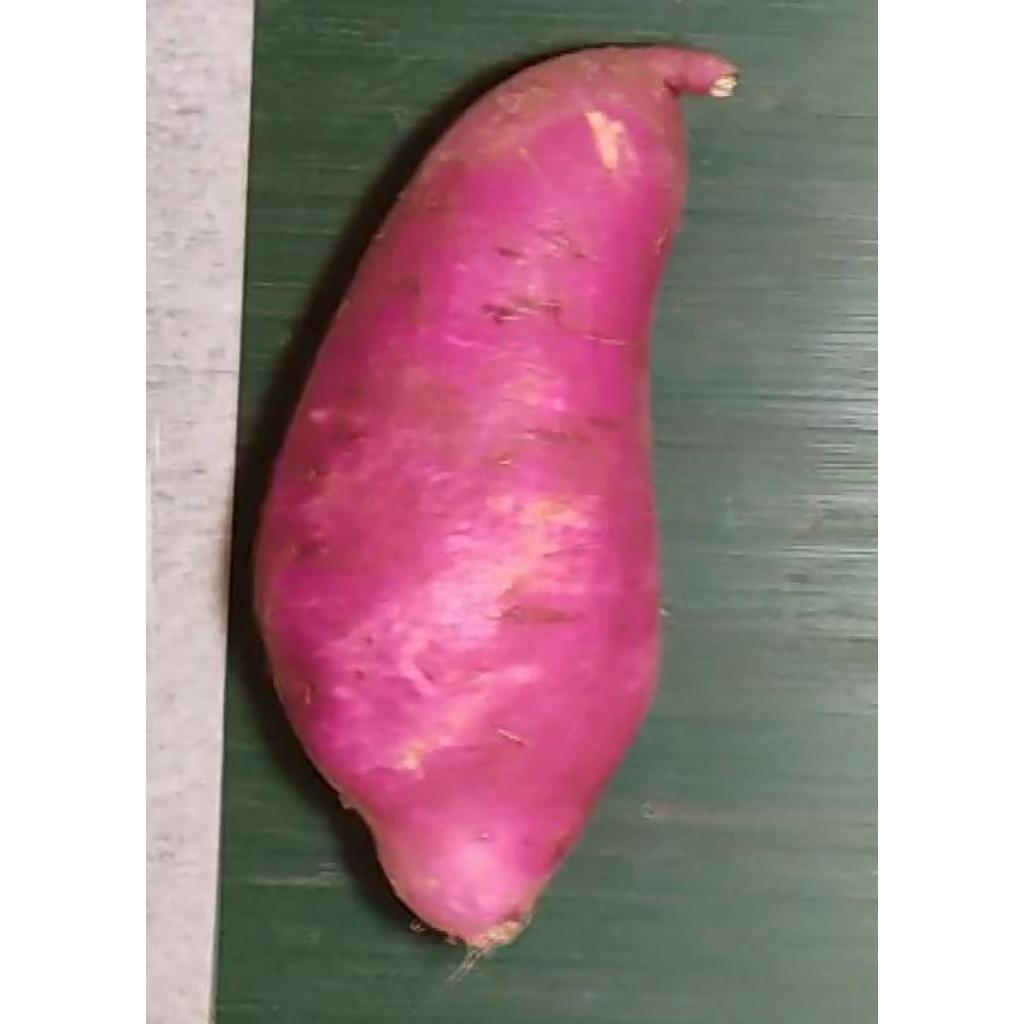Sweet Potato: (256, 44, 741, 948)
